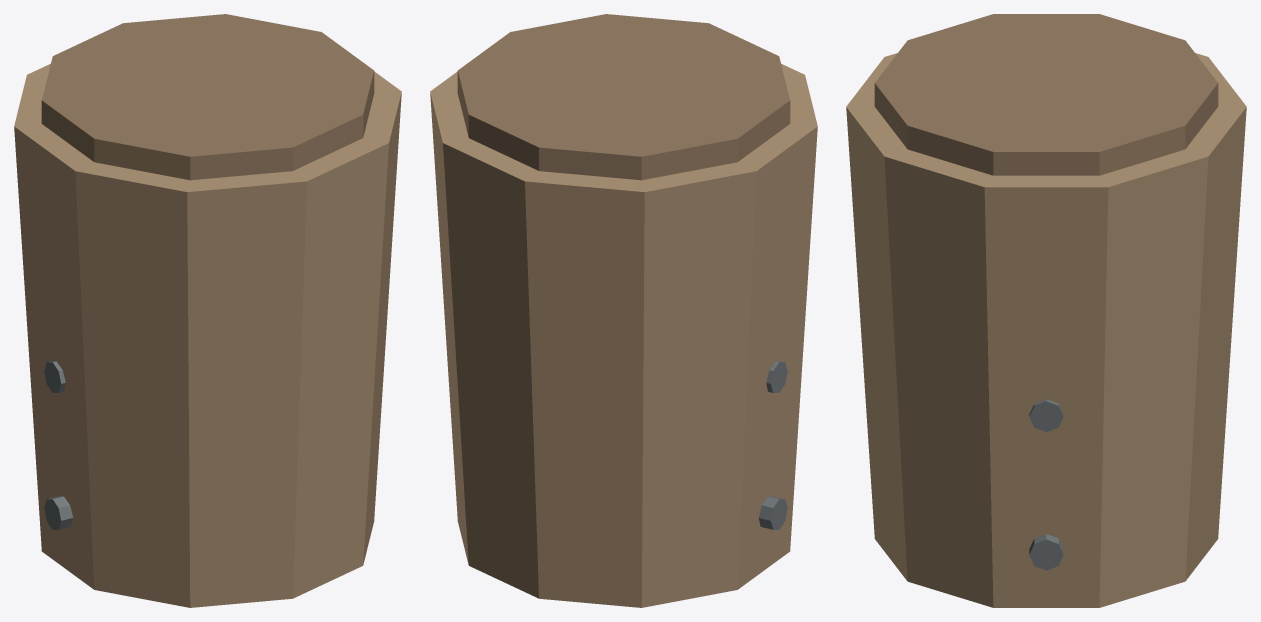
The model's file is powder_barrel.glb.
3 views of the same model, side by side, from view 1: azimuth 30°, elevation 25°; view 2: azimuth 150°, elevation 25°; view 3: azimuth 270°, elevation 25° (orthographic).
Visible parts, largest first — view 1: wood_lt, wood, iron; view 2: wood_lt, wood, iron; view 3: wood_lt, wood, iron.
Part boxes in pixels (left/top/right/bottom): wood_lt: left=14, top=63, right=401, bottom=607; wood: left=41, top=14, right=374, bottom=180; iron: left=44, top=361, right=73, bottom=529; wood_lt: left=430, top=63, right=817, bottom=607; wood: left=457, top=14, right=790, bottom=180; iron: left=758, top=361, right=787, bottom=529; wood_lt: left=846, top=53, right=1246, bottom=607; wood: left=874, top=14, right=1218, bottom=175; iron: left=1029, top=399, right=1063, bottom=570.
Bounding box in the file's own units: 0.3994 × 0.5275 × 0.42.
